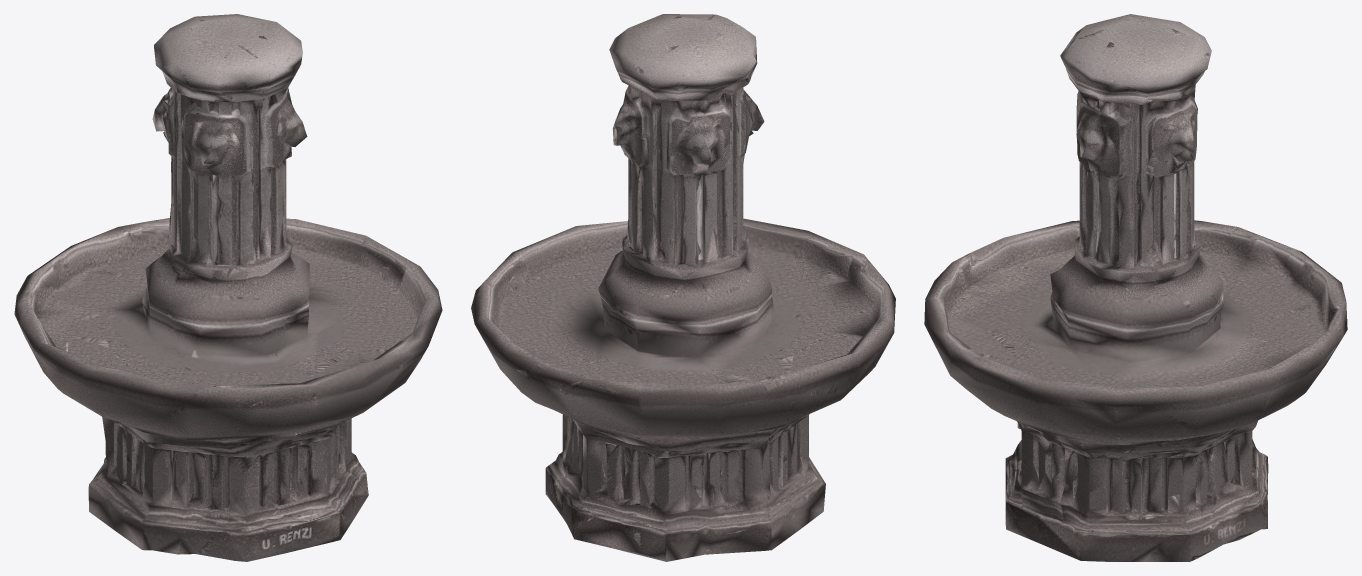
Rendered from fountain_vintage.glb.
The picture shows the model from 3 angles, left to right: view 1: azimuth 30°, elevation 25°; view 2: azimuth 150°, elevation 25°; view 3: azimuth 270°, elevation 25°; orthographic projection.
Visible parts, largest first — view 1: fountain_vintage; view 2: fountain_vintage; view 3: fountain_vintage.
Boxes of the visible parts, bbox=[...] form: fountain_vintage: bbox=[14, 14, 442, 561]; fountain_vintage: bbox=[471, 14, 895, 561]; fountain_vintage: bbox=[924, 14, 1347, 561].
Bounding box in the file's own units: 1.55 × 1.9 × 1.54.
Materials: 1 (1 with a texture image).
